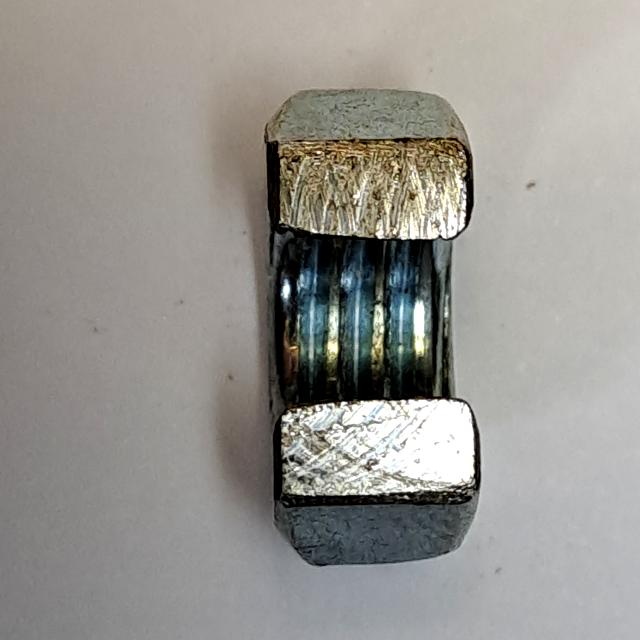Side-Fracture: (248, 70, 504, 582)
